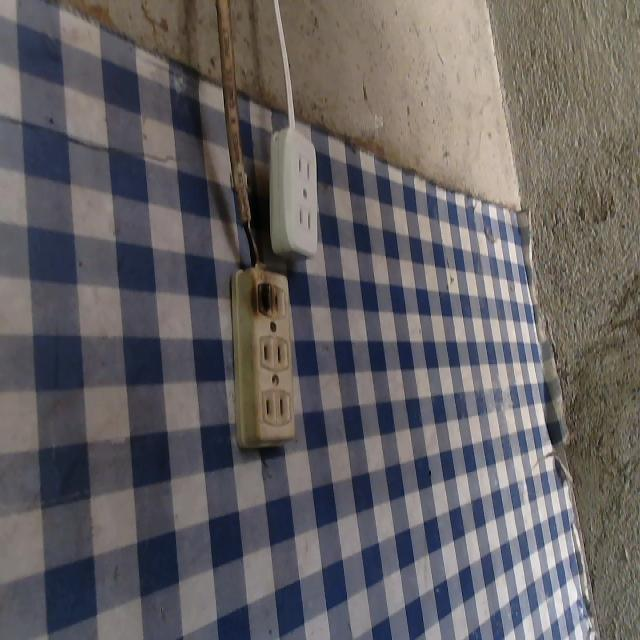-: (252, 269, 276, 323)
